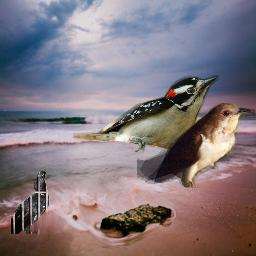Crow: (11, 170, 49, 234)
Cuckoo: (137, 102, 255, 188)
Woodpecker: (73, 72, 219, 155)
